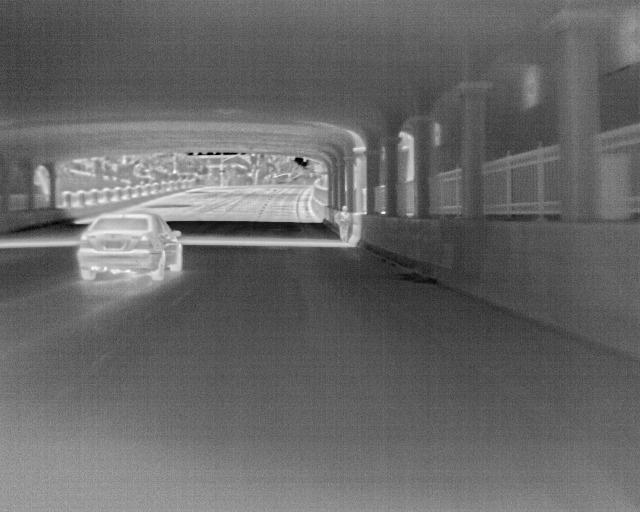bicycle: (75, 210, 184, 284)
empty: (336, 203, 354, 241)
